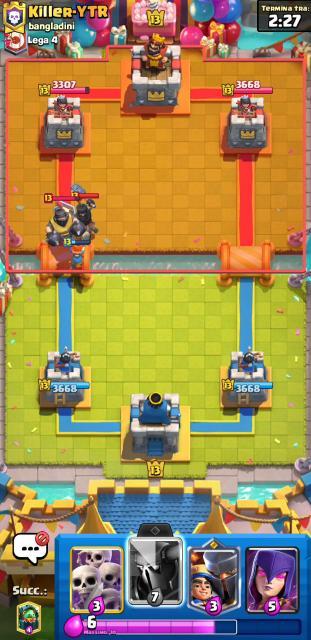ally_melee: (62, 237, 91, 270)
enemy_melee: (44, 193, 89, 248), (71, 184, 99, 240)
